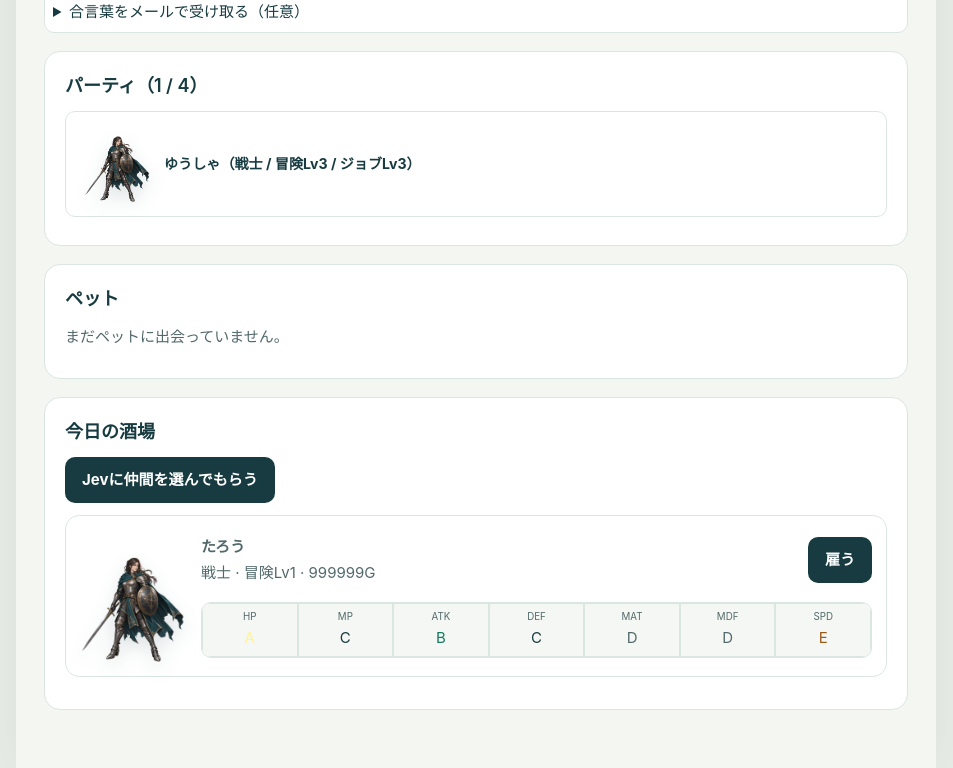
Test case: 仲間画面（設計書 §5） › 金貨不足で雇えないとき、サーバの文言がそのまま出る
(page scrolled)
Click the button "雇う": [840, 560] box [808,536,872,582]
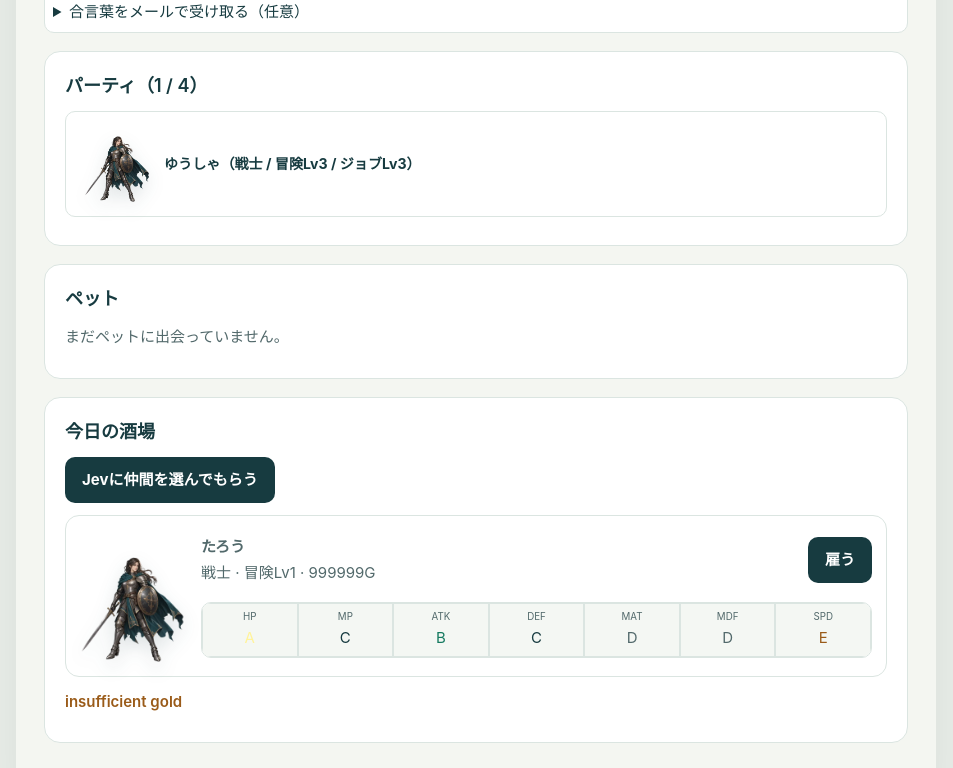
Check: the message reads "insufficient gold", box [65,692,182,711]
